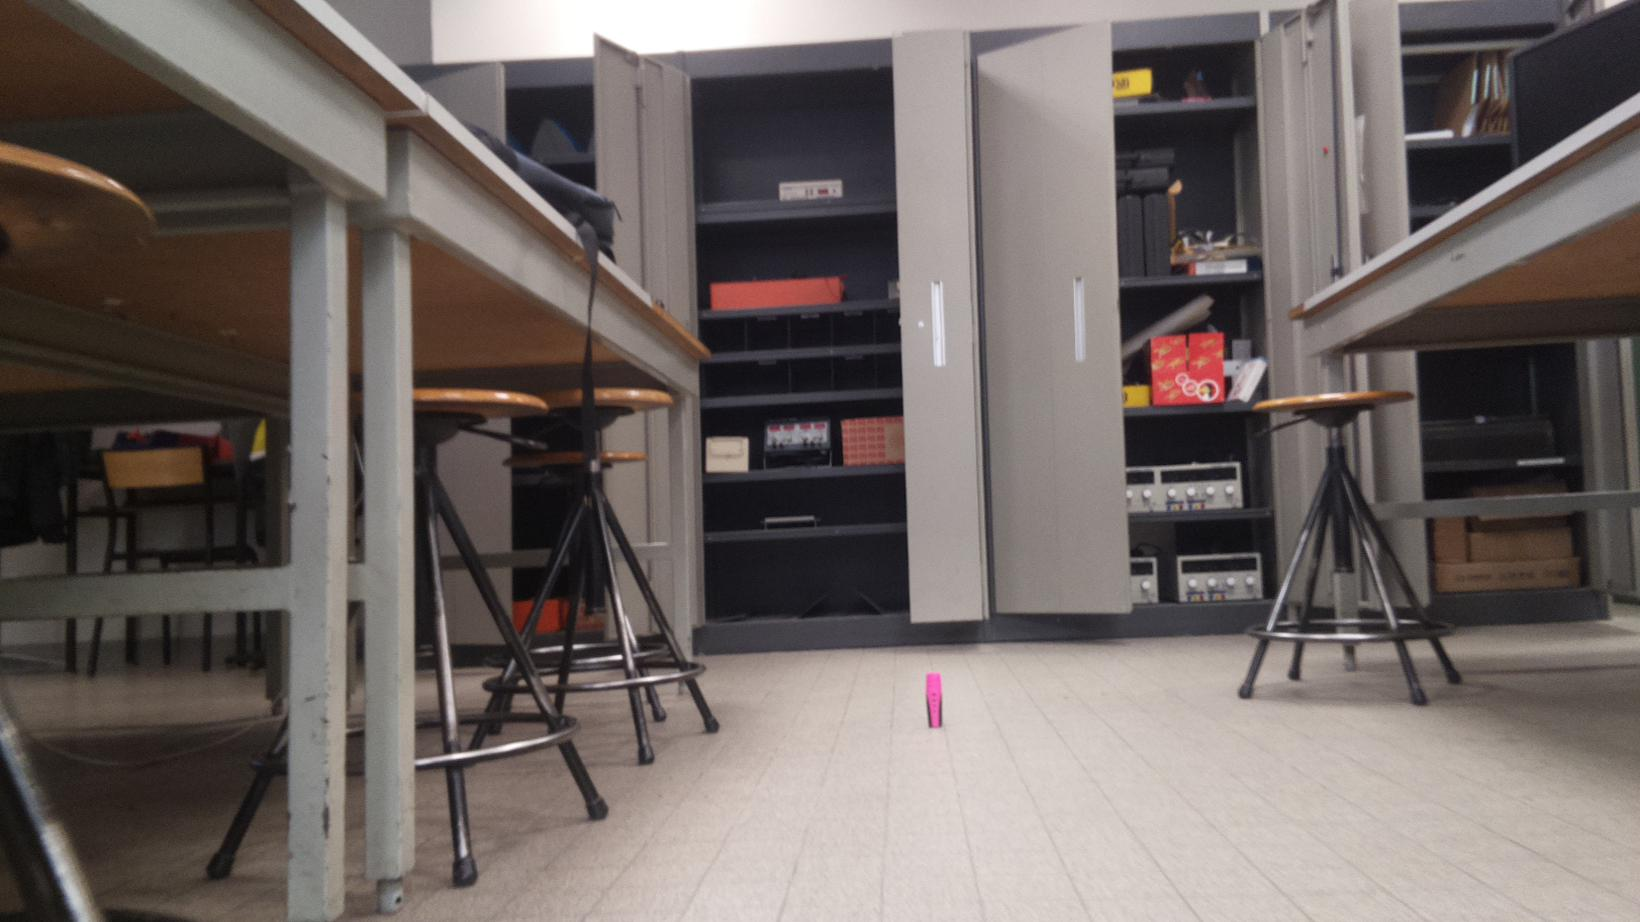small: (924, 668, 947, 729)
